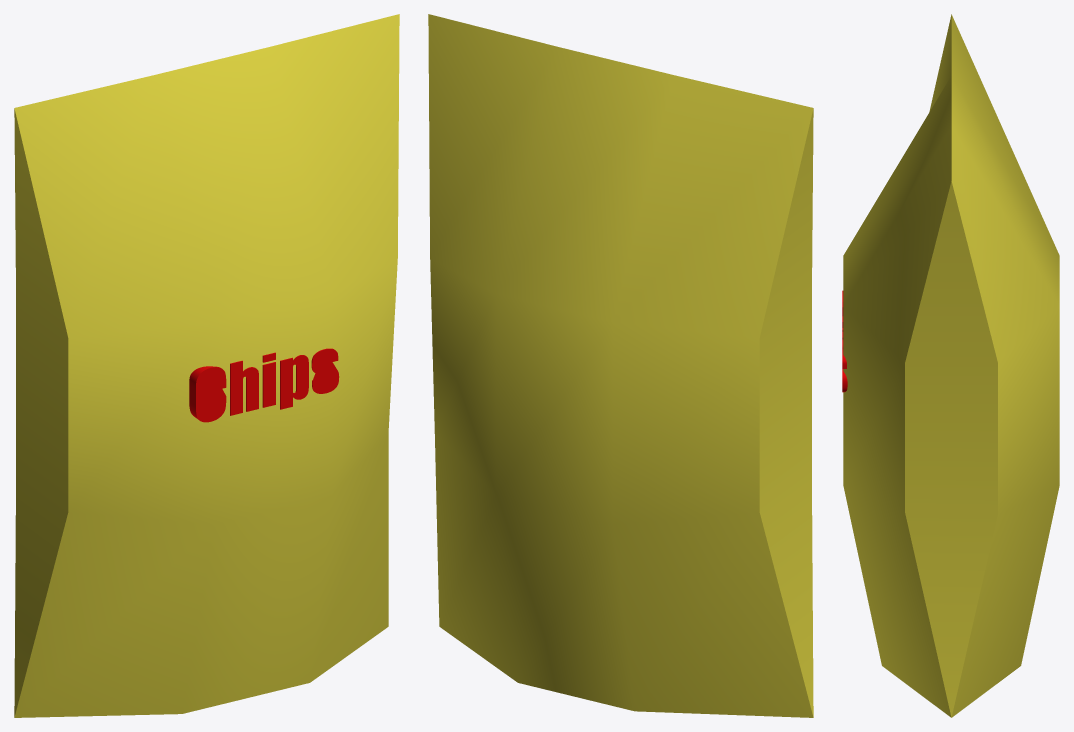
File: chips.fbx
The picture shows the model from 3 angles, left to right: view 1: azimuth 30°, elevation 25°; view 2: azimuth 150°, elevation 25°; view 3: azimuth 270°, elevation 25°; orthographic projection. The views are drawn at different scales.
Visible parts, largest first — view 1: pCube1, typeMesh2; view 2: pCube1; view 3: pCube1.
Boxes of the visible parts, x1,y1,x2,y2 form: pCube1: [14, 14, 399, 717]; typeMesh2: [189, 348, 339, 422]; pCube1: [428, 14, 813, 717]; pCube1: [843, 14, 1059, 717].
Bounding box in the file's own units: 1.14 × 1.73 × 0.6273.
